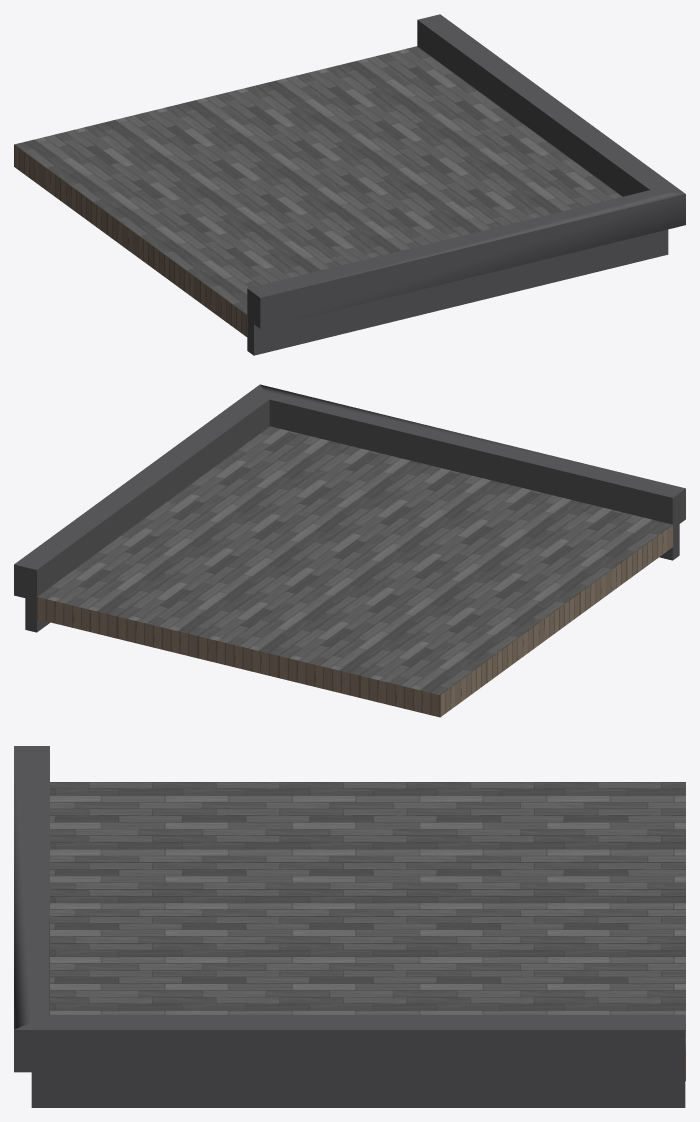
The model's file is SM_Bld_House_Floor_Exterior_02.obj.
3 renders of one model, top to bottom at view 1: azimuth 30°, elevation 25°; view 2: azimuth 150°, elevation 25°; view 3: azimuth 270°, elevation 25°, orthographic. The views are drawn at different scales.
Visible parts, largest first — view 1: SM_Bld_House_Floor_Exterior_02_mi_HouseInteriorFloor_01, SM_Bld_House_Floor_Exterior_02_Mat_SwatchOverlay_PolygonTown_01_, SM_Bld_House_Floor_Exterior_02_mi_HouseExteriorWalls_01; view 2: SM_Bld_House_Floor_Exterior_02_mi_HouseInteriorFloor_01, SM_Bld_House_Floor_Exterior_02_Mat_SwatchOverlay_PolygonTown_01_, SM_Bld_House_Floor_Exterior_02_mi_HouseExteriorWalls_01; view 3: SM_Bld_House_Floor_Exterior_02_mi_HouseInteriorFloor_01, SM_Bld_House_Floor_Exterior_02_Mat_SwatchOverlay_PolygonTown_01_.
Boxes of the visible parts, left/top/right/bottom form: SM_Bld_House_Floor_Exterior_02_mi_HouseInteriorFloor_01: left=14, top=46, right=622, bottom=314; SM_Bld_House_Floor_Exterior_02_Mat_SwatchOverlay_PolygonTown_01_: left=247, top=14, right=685, bottom=355; SM_Bld_House_Floor_Exterior_02_mi_HouseExteriorWalls_01: left=14, top=145, right=247, bottom=336; SM_Bld_House_Floor_Exterior_02_mi_HouseInteriorFloor_01: left=37, top=426, right=672, bottom=694; SM_Bld_House_Floor_Exterior_02_Mat_SwatchOverlay_PolygonTown_01_: left=14, top=384, right=685, bottom=632; SM_Bld_House_Floor_Exterior_02_mi_HouseExteriorWalls_01: left=36, top=525, right=673, bottom=717; SM_Bld_House_Floor_Exterior_02_mi_HouseInteriorFloor_01: left=50, top=782, right=685, bottom=1050; SM_Bld_House_Floor_Exterior_02_Mat_SwatchOverlay_PolygonTown_01_: left=14, top=746, right=685, bottom=1107.
Size of the model in its own units: 5 by 0.7012 by 5.
Materials: 3 (3 with a texture image).
